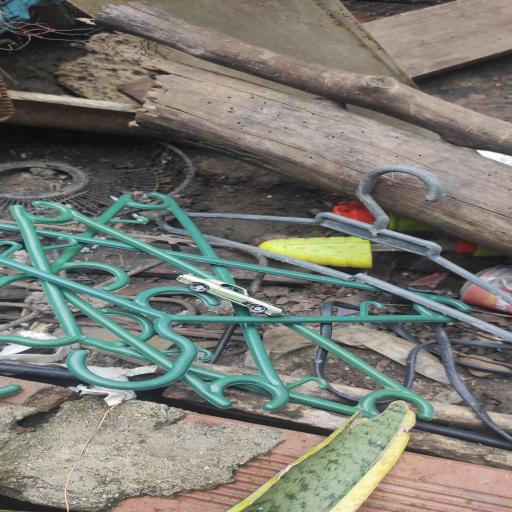Carrito: (177, 274, 284, 316)
